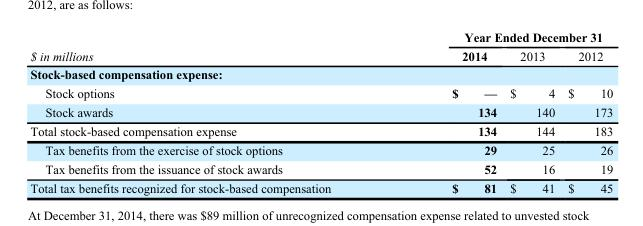table: (29, 29, 612, 194)
table column: (29, 29, 390, 194), (390, 29, 502, 194), (502, 29, 560, 194), (560, 29, 612, 194)
table column header: (29, 29, 612, 64)
table projected row header: (29, 64, 612, 83)
table row: (29, 45, 612, 64), (29, 64, 612, 83), (29, 83, 612, 102), (29, 102, 612, 121), (29, 121, 612, 140), (29, 140, 612, 159), (29, 159, 612, 178), (29, 29, 612, 45), (29, 178, 612, 194)
table spanning cell: (29, 29, 390, 64), (390, 29, 612, 45)
